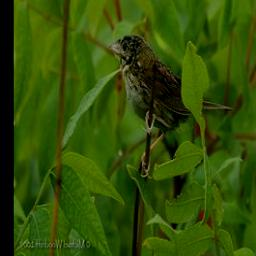Sparrow: (109, 32, 237, 182)
